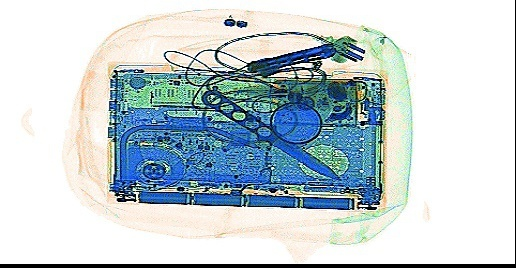knife: (199, 89, 343, 181), (248, 41, 336, 72)
